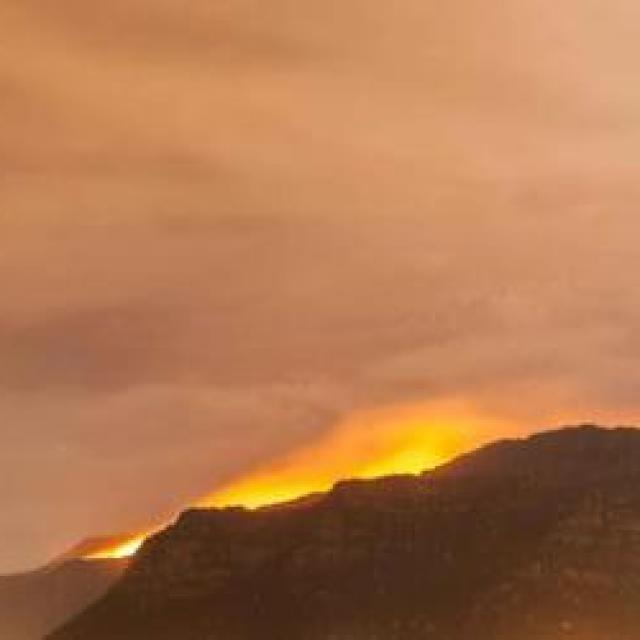fire: (394, 446, 439, 477), (118, 538, 142, 558), (242, 498, 262, 510)
smoke: (302, 422, 388, 464), (402, 400, 478, 442), (245, 450, 308, 490)
